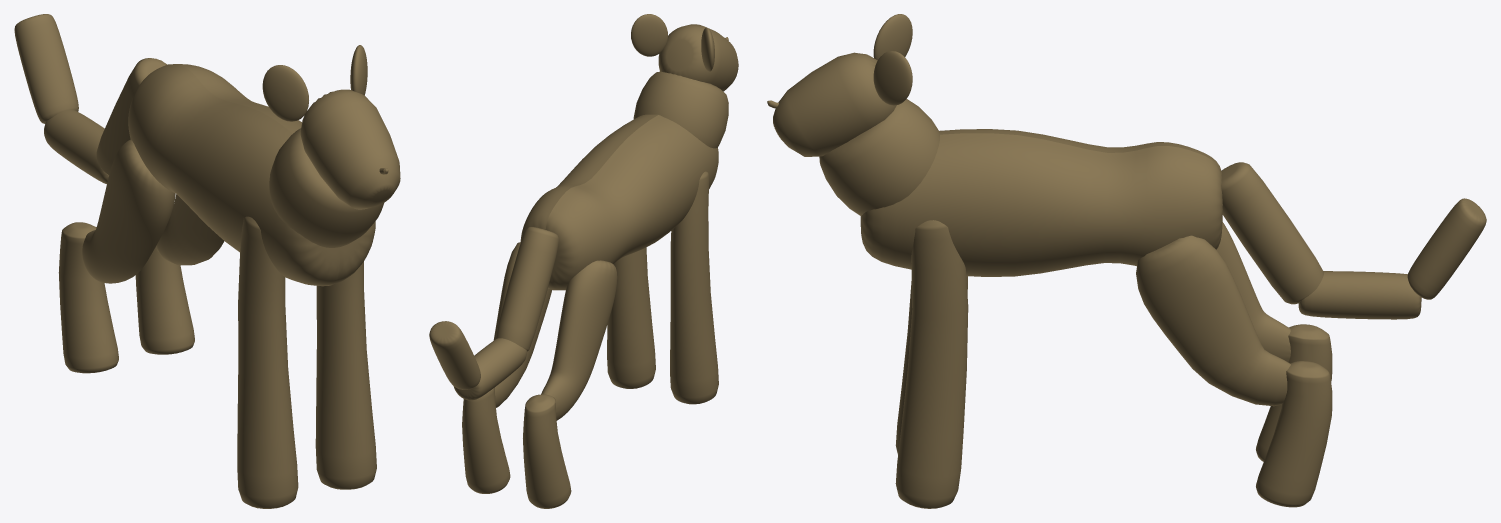
The model's file is cheetah.fbx.
3 renders of one model, left to right at view 1: azimuth 30°, elevation 25°; view 2: azimuth 150°, elevation 25°; view 3: azimuth 270°, elevation 25°, orthographic. The views are drawn at different scales.
Visible parts, largest first — view 1: Cheetah1; view 2: Cheetah1; view 3: Cheetah1.
Boxes of the visible parts, bbox=[...] form: Cheetah1: bbox=[14, 14, 400, 508]; Cheetah1: bbox=[429, 14, 738, 508]; Cheetah1: bbox=[767, 14, 1486, 508].
Size of the model in its own units: 3.29 by 10.86 by 15.79.
